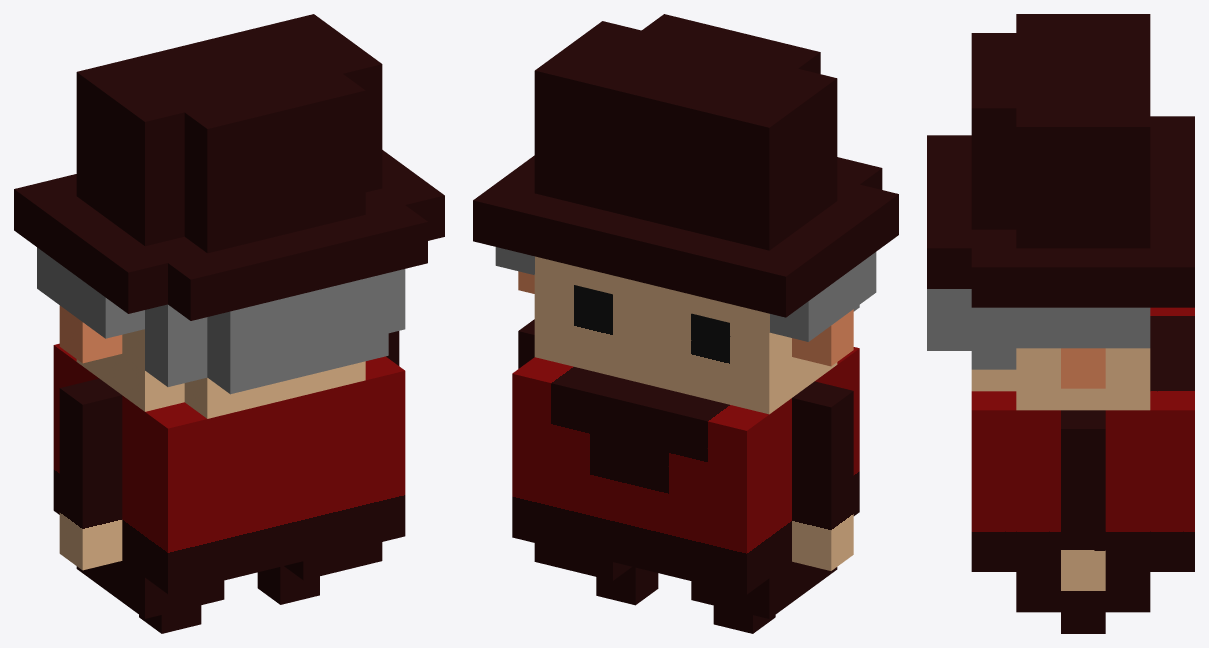
File: chr_mayor.dae
3 views of the same model, side by side, from view 1: azimuth 30°, elevation 25°; view 2: azimuth 150°, elevation 25°; view 3: azimuth 270°, elevation 25° (orthographic). The views are drawn at different scales.
Visible parts, largest first — view 1: chr_mayor; view 2: chr_mayor; view 3: chr_mayor.
Part boxes in pixels (x1=…): chr_mayor: x1=14, y1=14, x2=444, y2=633; chr_mayor: x1=473, y1=14, x2=898, y2=633; chr_mayor: x1=927, y1=14, x2=1194, y2=633.
Size of the model in its own units: 0.8 by 0.6 by 1.3.
1 material, 1 textured.
